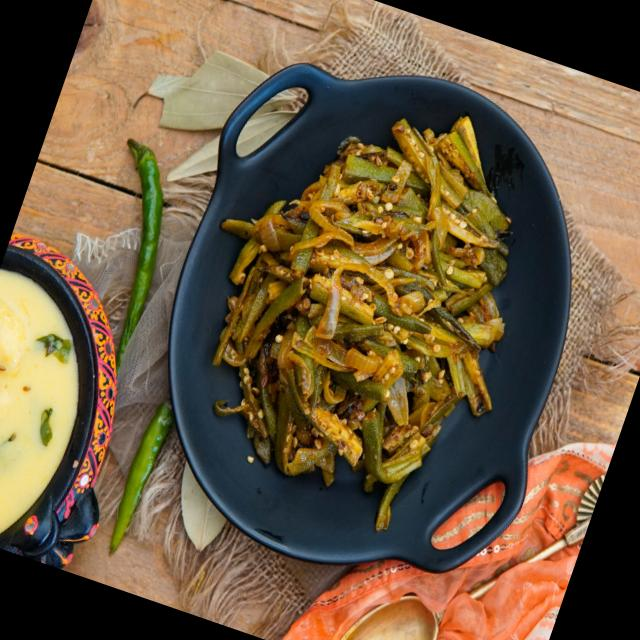BhindiMasala: (143, 52, 576, 554)
